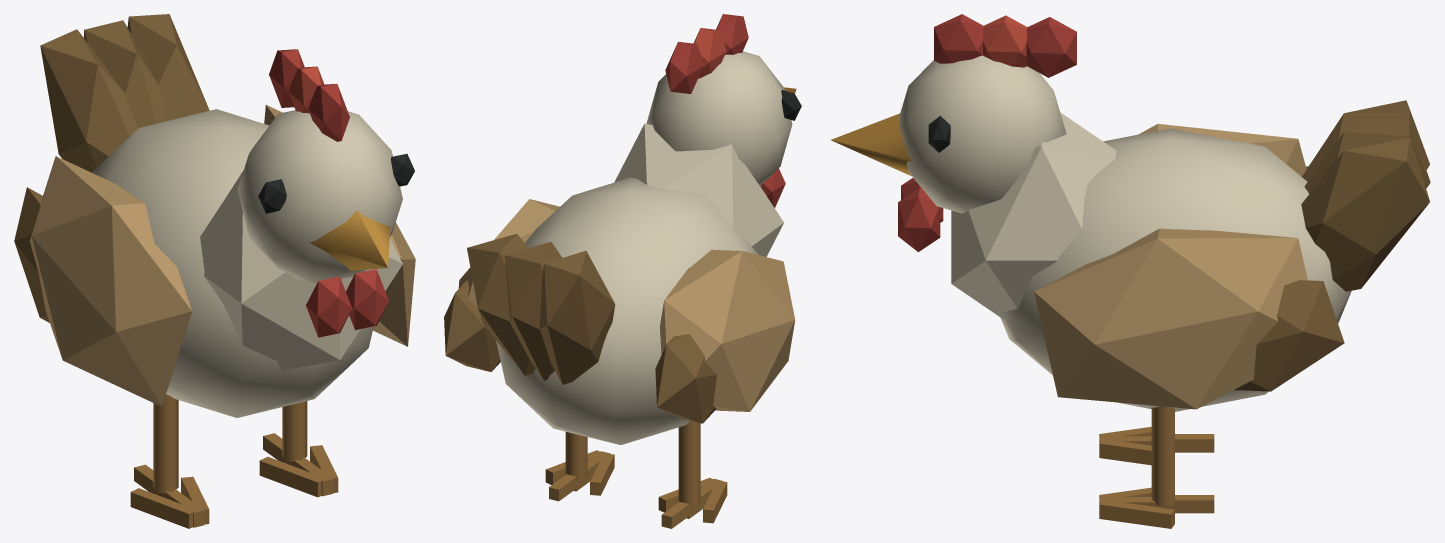
File: hen.glb
3 renders of one model, left to right at view 1: azimuth 30°, elevation 25°; view 2: azimuth 150°, elevation 25°; view 3: azimuth 270°, elevation 25°, orthographic. The views are drawn at different scales.
Parts seen in each view (by area): view 1: hen; view 2: hen; view 3: hen.
Part boxes in pixels (left/top/right/bottom): hen: left=14, top=14, right=415, bottom=528; hen: left=444, top=14, right=801, bottom=528; hen: left=831, top=14, right=1430, bottom=528.
Size of the model in its own units: 0.4438 by 0.6741 by 0.7917.
